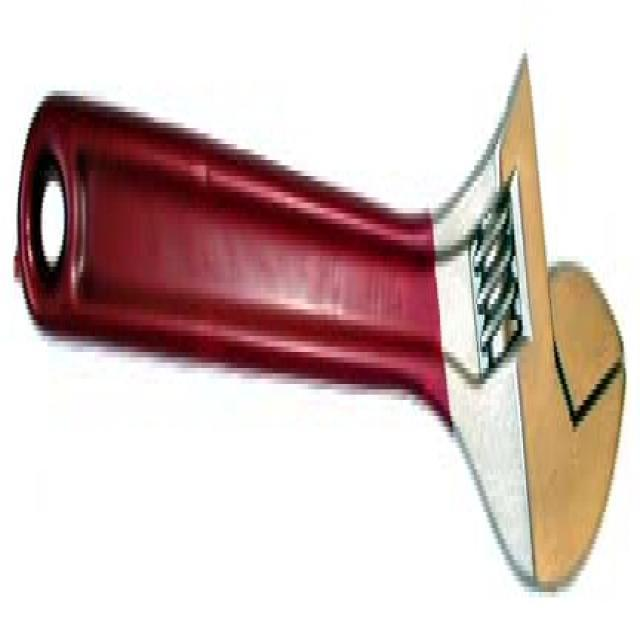wrench: (15, 51, 630, 602)
